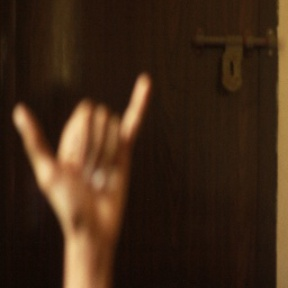J: (13, 69, 158, 238)
